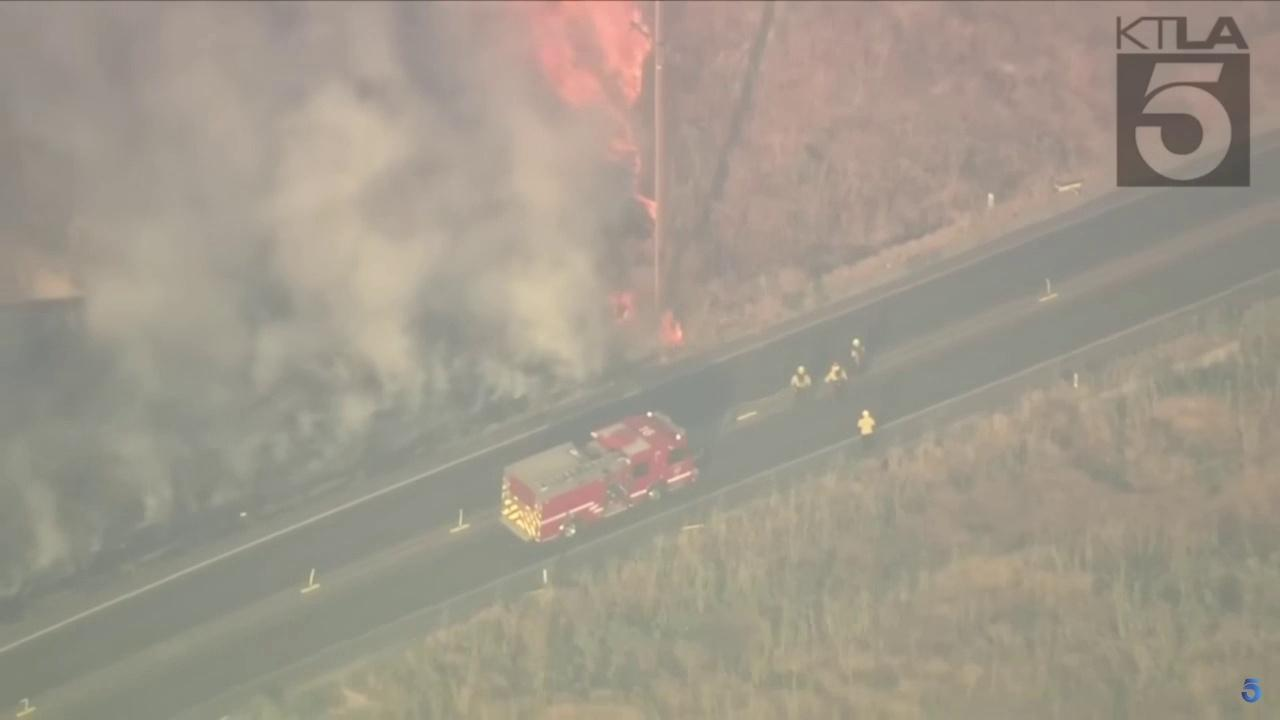fire: (519, 0, 654, 174), (627, 177, 657, 222), (655, 306, 683, 347), (606, 292, 636, 328)
smoke: (0, 0, 641, 585)
